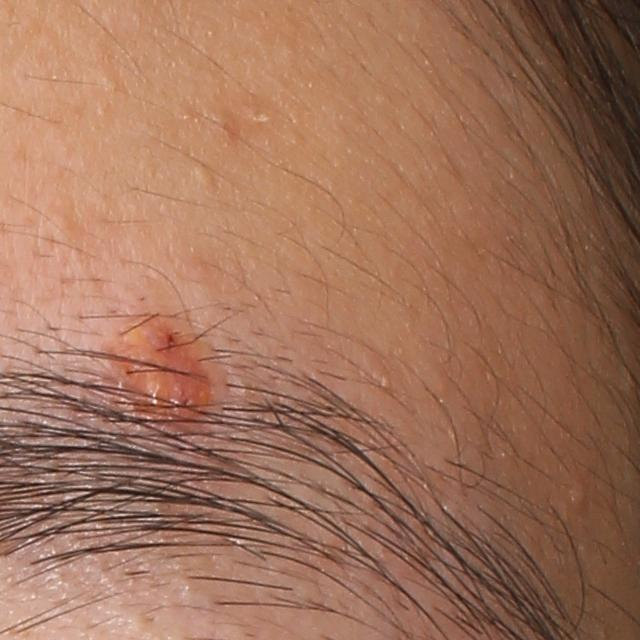comedo: (95, 69, 121, 99), (566, 480, 586, 513), (195, 164, 219, 189)
other: (101, 294, 235, 446)
